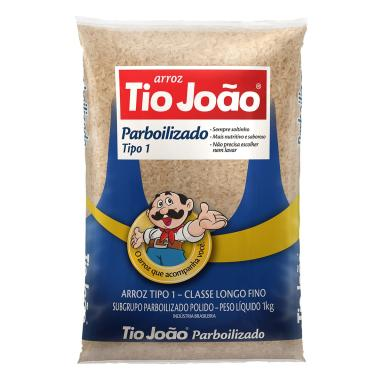rice package: (77, 18, 305, 362)
